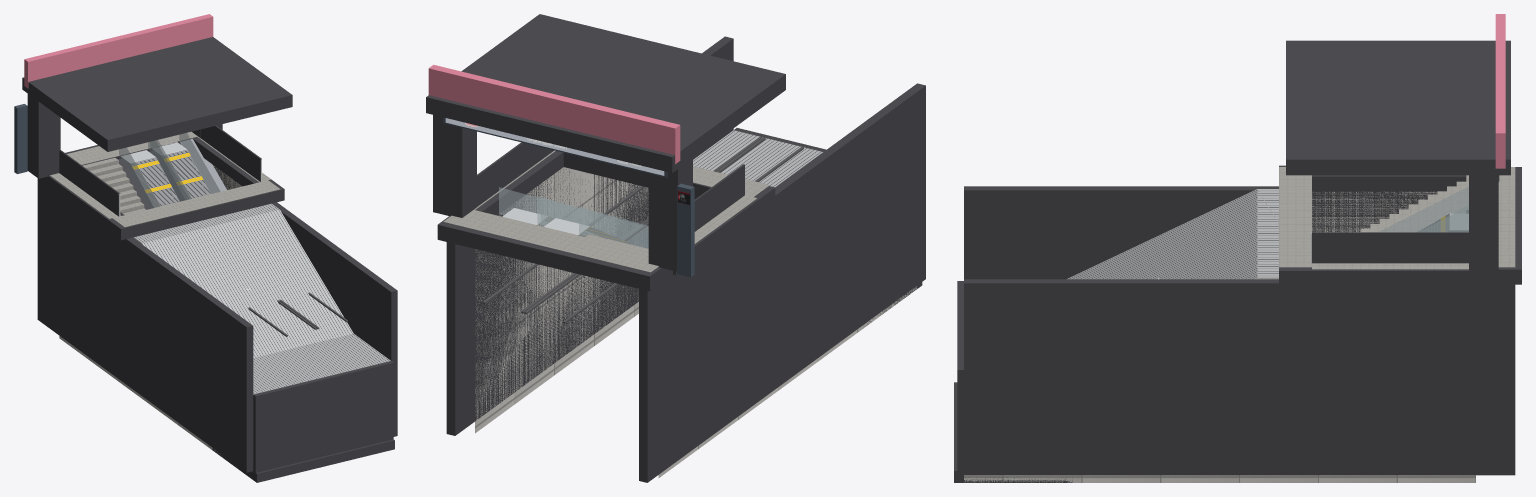
Rendered from wl80-r3-game-metro-assets-exit_longxiangqiao_d.glb.
3 renders of one model, left to right at view 1: azimuth 30°, elevation 25°; view 2: azimuth 150°, elevation 25°; view 3: azimuth 270°, elevation 25°, orthographic. The views are drawn at different scales.
Visible parts, largest first — view 1: ex_col, ex_shaft, landing_cap_col, ex_kiosk; view 2: ex_col, ex_shaft, ex_kiosk; view 3: ex_col, ex_shaft, ex_kiosk, landing_cap_col.
Part boxes in pixels (x1,y1,x2,y2): ex_col: (22, 37, 397, 482); ex_shaft: (59, 133, 390, 466); landing_cap_col: (253, 361, 393, 472); ex_kiosk: (14, 14, 280, 227); ex_col: (426, 14, 925, 482); ex_shaft: (475, 130, 916, 477); ex_kiosk: (428, 64, 769, 277); ex_col: (954, 40, 1521, 482); ex_shaft: (964, 175, 1475, 482); ex_kiosk: (1279, 14, 1515, 269); landing_cap_col: (957, 281, 963, 470).
Size of the model in its own units: 9.1 by 12.26 by 17.3.
16 materials, 7 textured.
